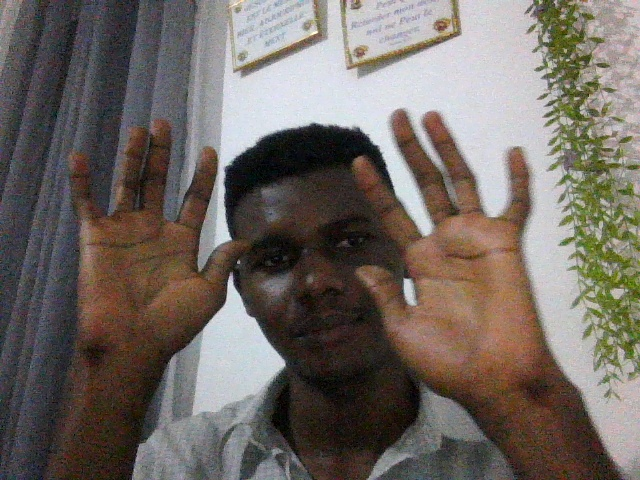hand: (341, 116, 580, 424)
